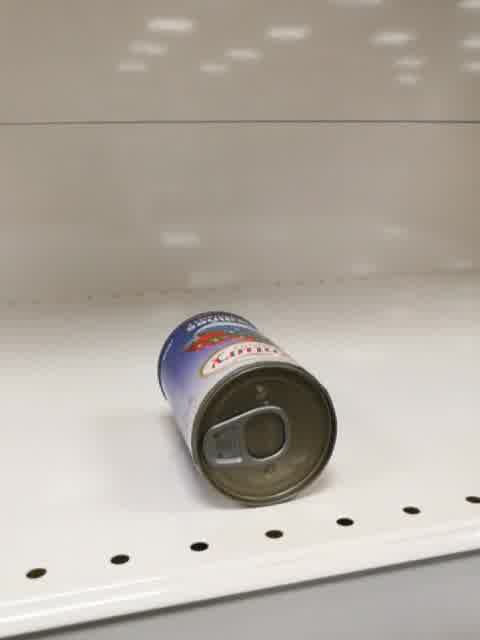sardine: (157, 311, 339, 509)
